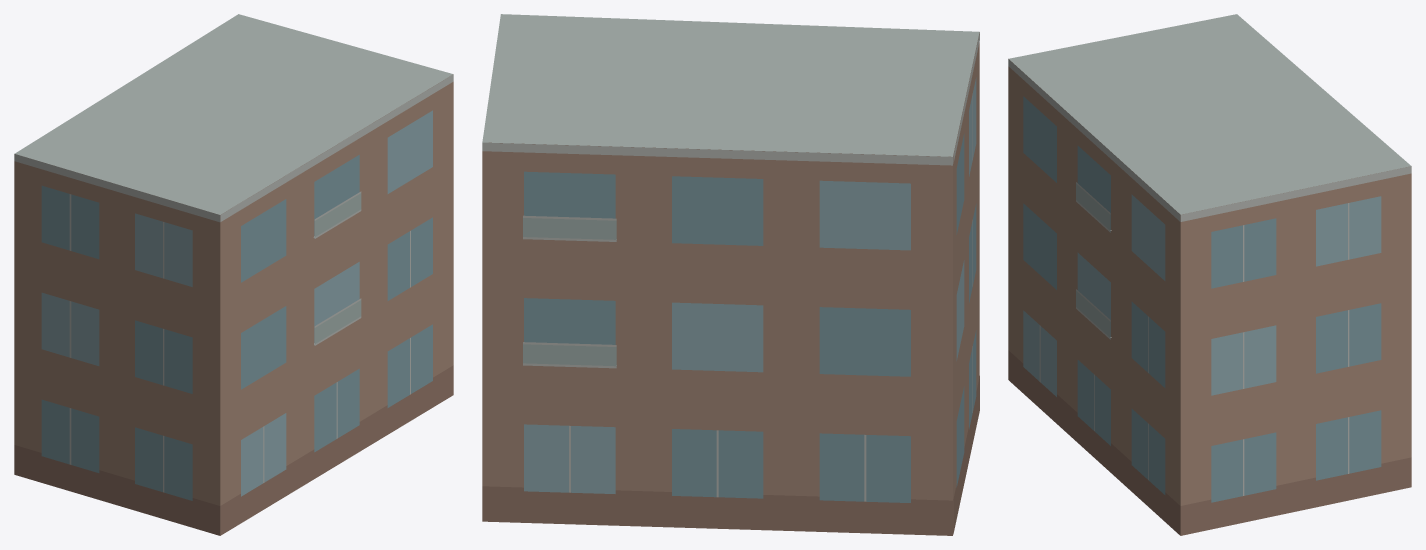
Rendered from survey-upis-32973198.glb.
3 views of the same model, side by side, from view 1: azimuth 30°, elevation 25°; view 2: azimuth 150°, elevation 25°; view 3: azimuth 270°, elevation 25° (orthographic). The views are drawn at different scales.
Visible parts, largest first — view 1: survey-upis-32973198.tmp; view 2: survey-upis-32973198.tmp; view 3: survey-upis-32973198.tmp.
Part boxes in pixels (left/top/right/bottom): survey-upis-32973198.tmp: left=14, top=14, right=453, bottom=535; survey-upis-32973198.tmp: left=482, top=14, right=979, bottom=535; survey-upis-32973198.tmp: left=1008, top=14, right=1411, bottom=535.
Size of the model in its own units: 14.22 by 10.6 by 12.07.
